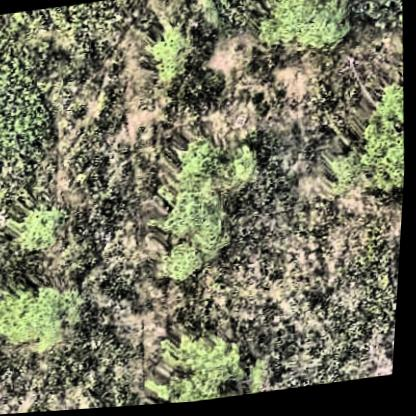tree-top: (150, 126, 268, 293), (323, 83, 411, 218), (147, 331, 253, 407), (0, 274, 89, 362), (254, 0, 360, 70), (15, 199, 70, 259), (148, 29, 200, 87)
